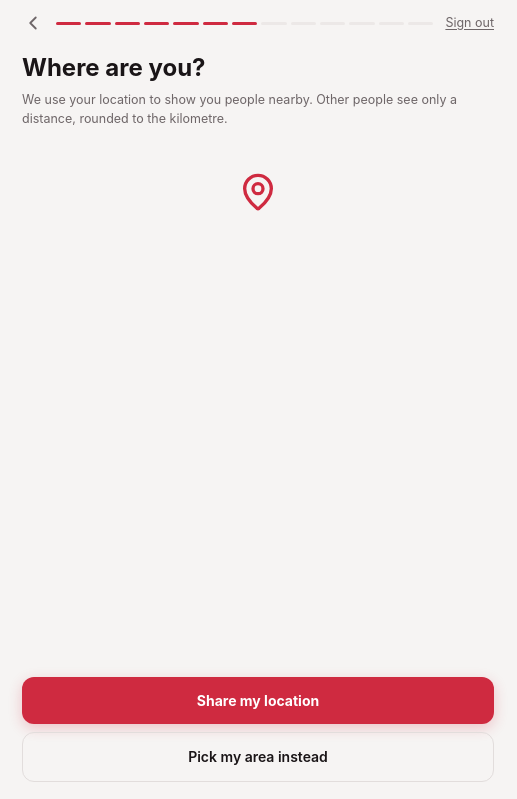
Test case: the location question (T-4.10, D-220) › a position the server refuses, outside India, lands on the picker too
The width and height of the screenshot is (517, 799).
Click the button "Share my location": (258, 701) [22,677,494,724]
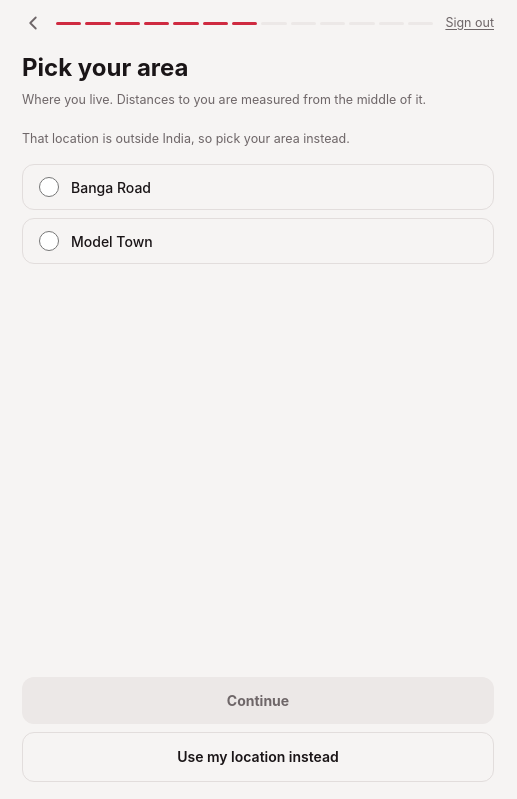
Now the message reads "That location is outside India, so pick your area instead.", box [22,130,350,146]
